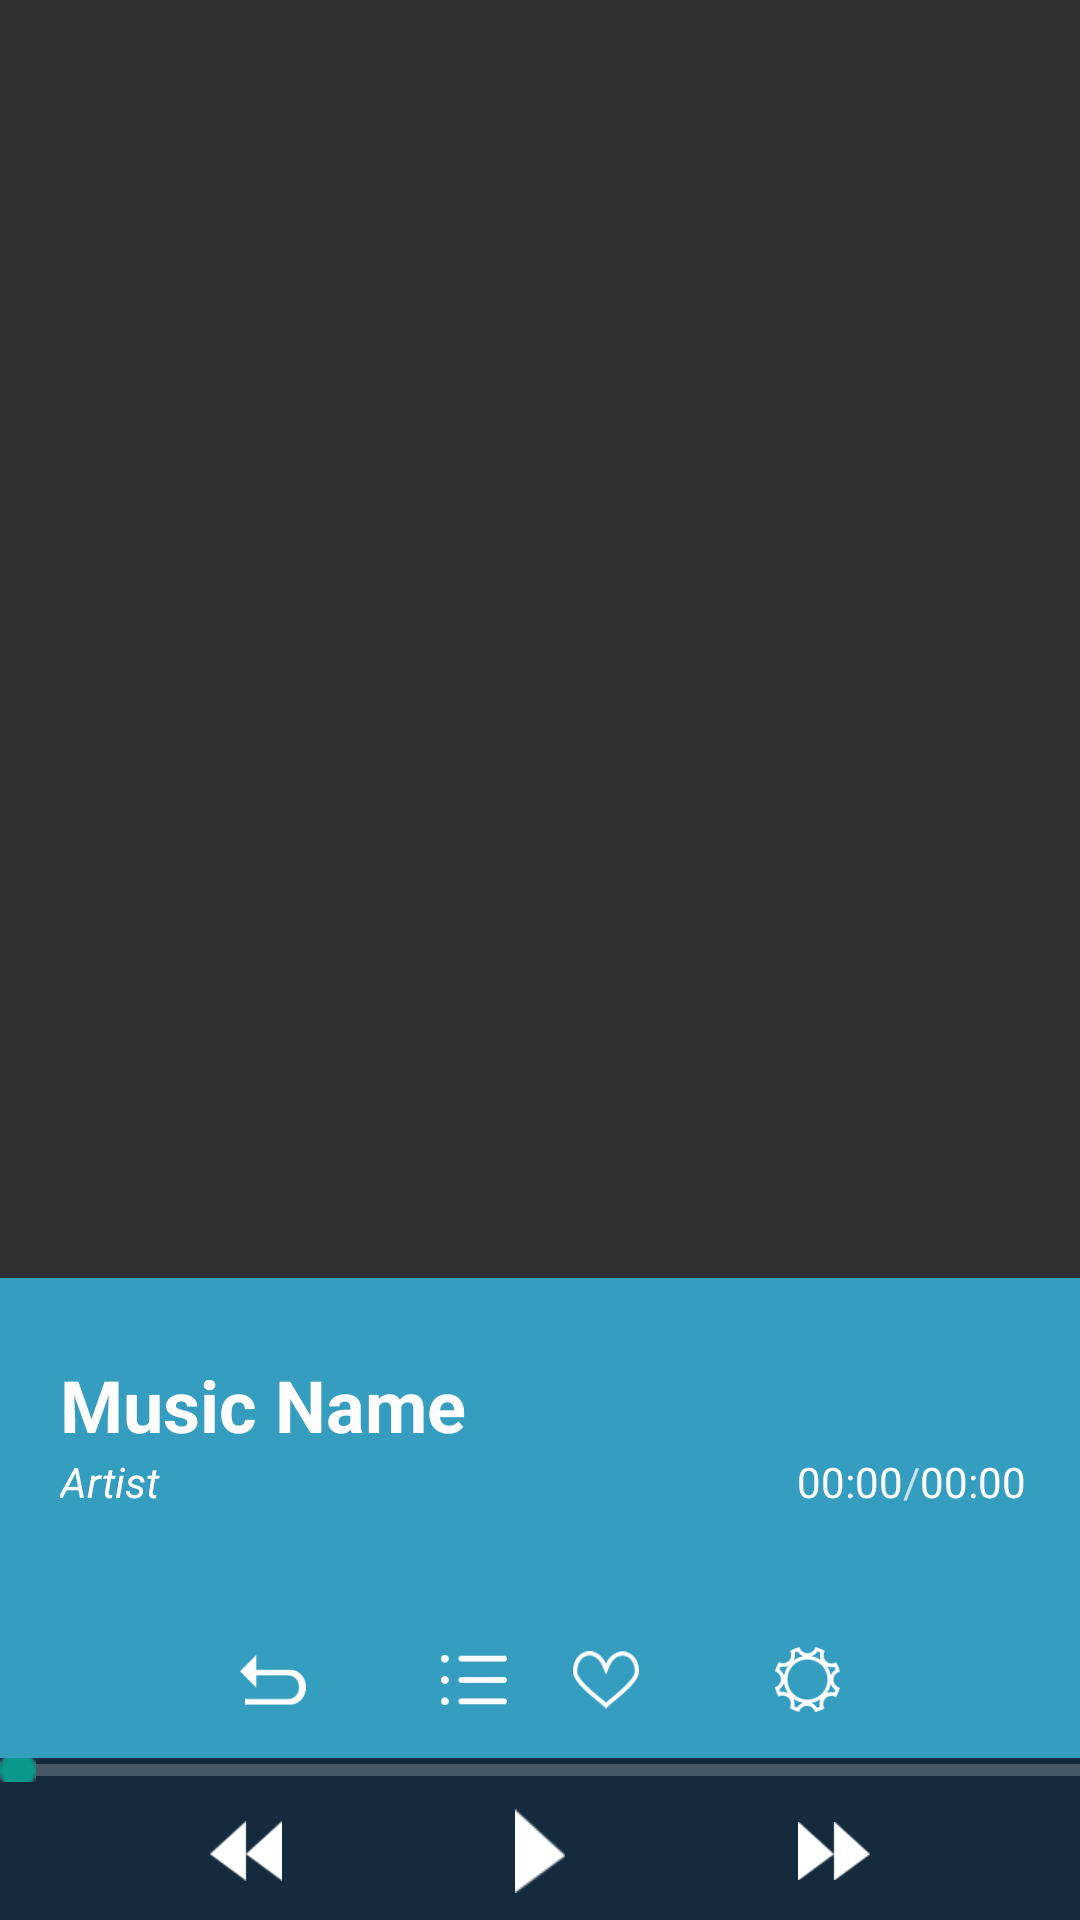

Screen size 1080*1920. Icon name, then its center in pixels as (x=x, y=y):
left: (x=246, y=1851)
musiclist: (x=474, y=1680)
right: (x=834, y=1851)
set: (x=807, y=1679)
start: (x=540, y=1851)
